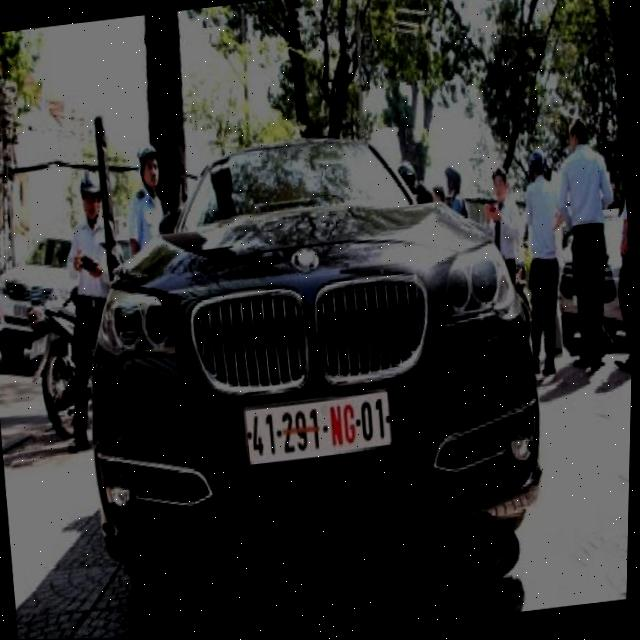car: (54, 110, 566, 626)
plate: (233, 387, 405, 475)
